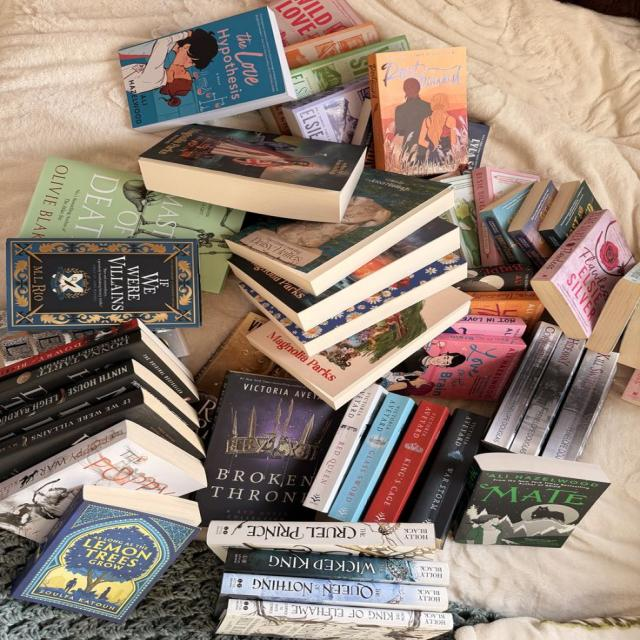book: (125, 13, 287, 123), (139, 122, 370, 195), (10, 238, 199, 324), (459, 467, 607, 549), (330, 392, 416, 521), (0, 320, 141, 387), (221, 573, 456, 604), (233, 551, 449, 583)
